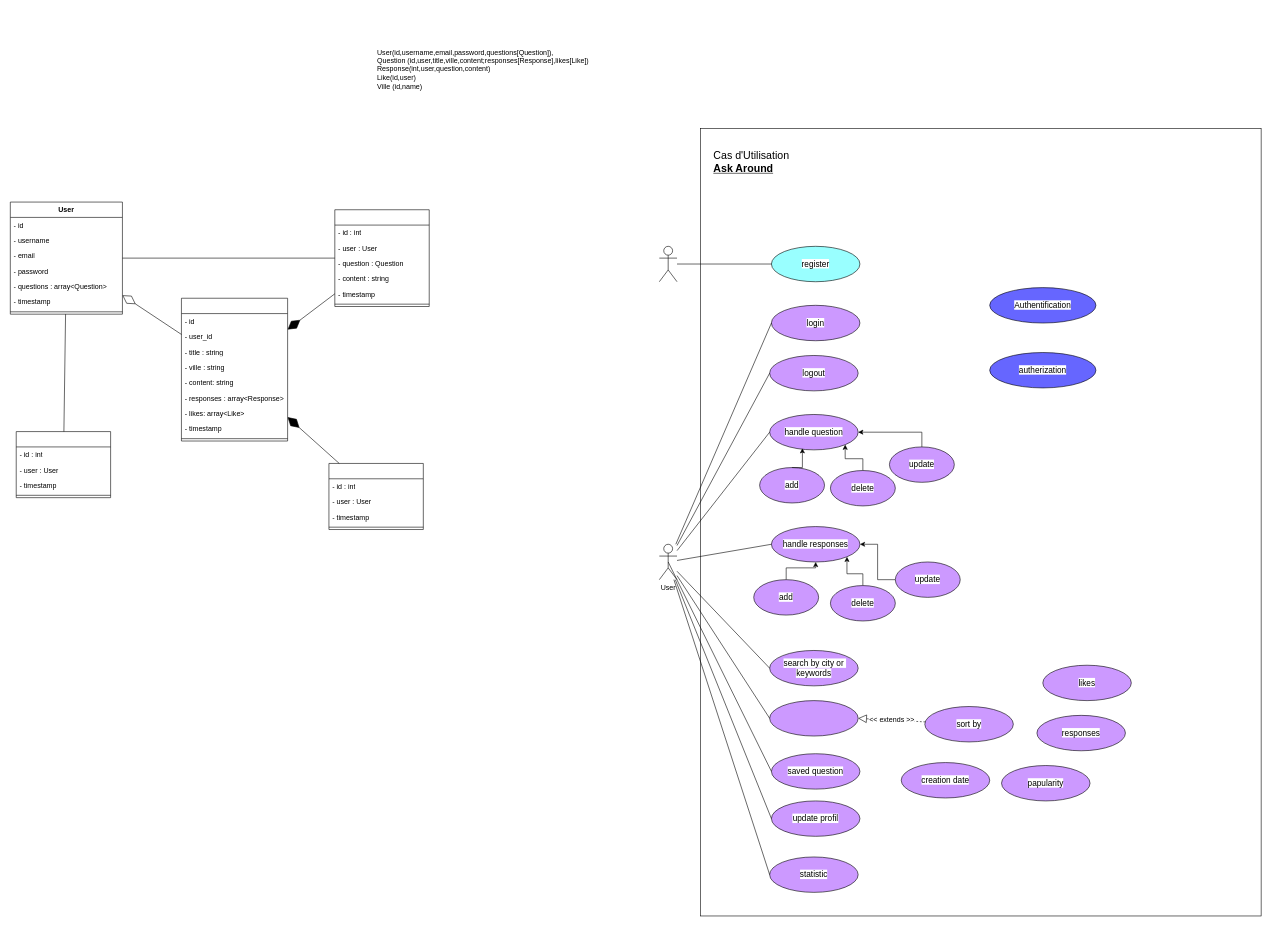
The diagram is 1271 pixels wide and 926 high, and some of its shapes have lost their labels. The box of each missing label's shape, as (x1, y1, x2, y2) in pixels:
browser questions: (769, 700, 858, 736)
Cities: (16, 431, 111, 498)
Guest: (659, 246, 677, 282)
Like: (328, 463, 423, 530)
Question: (181, 298, 288, 441)
Response: (334, 209, 429, 307)
